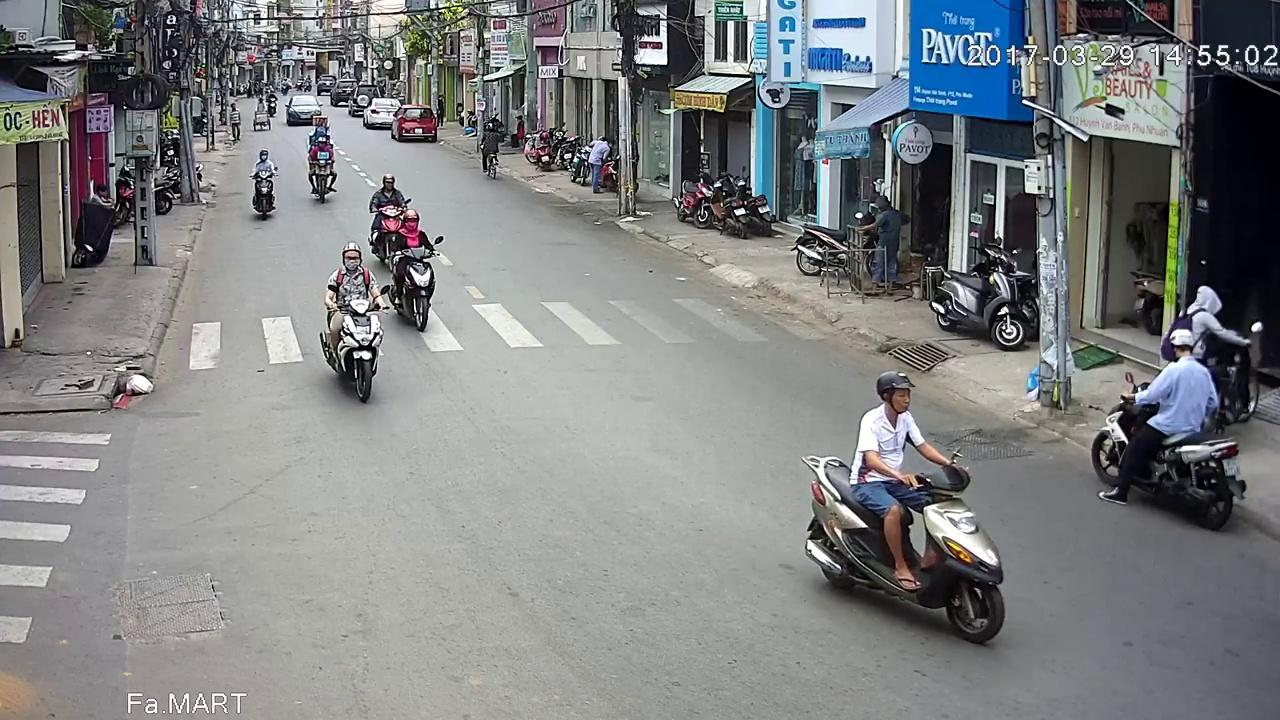xe dap: (479, 119, 502, 176)
xe hoi: (389, 97, 438, 136)
xe may: (794, 372, 999, 649), (1084, 330, 1242, 534), (314, 239, 387, 402), (383, 215, 441, 338), (368, 175, 412, 261), (246, 151, 278, 224), (306, 136, 337, 204)
